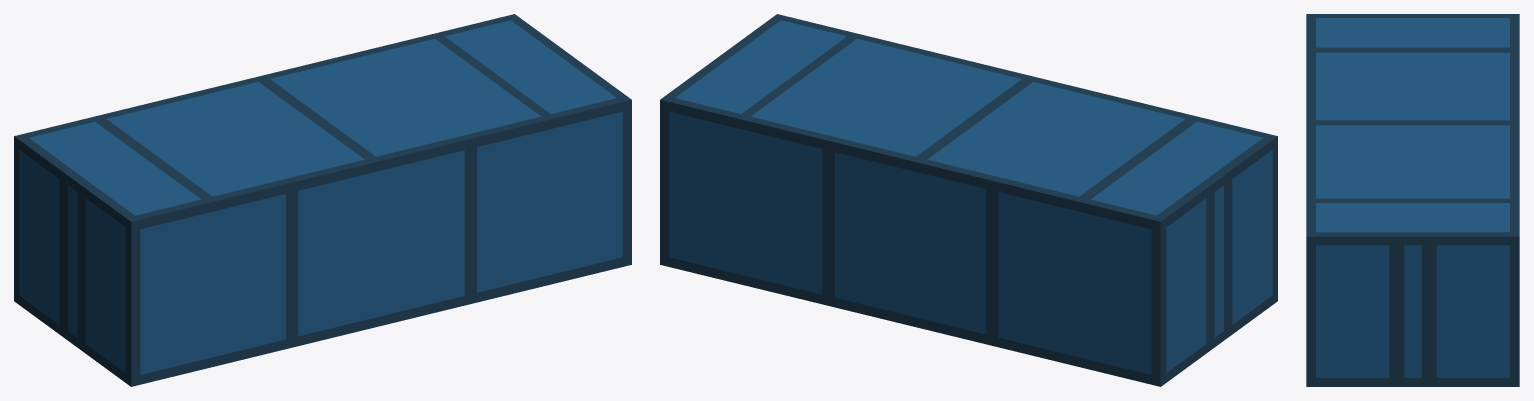
File: cargo container1.FBX
The picture shows the model from 3 angles, left to right: view 1: azimuth 30°, elevation 25°; view 2: azimuth 150°, elevation 25°; view 3: azimuth 270°, elevation 25°; orthographic projection. The views are drawn at different scales.
Parts seen in each view (by area): view 1: cargo container1; view 2: cargo container1; view 3: cargo container1.
Part boxes in pixels (x1,y1,x2,y2): cargo container1: (14,14,631,386); cargo container1: (660,14,1277,386); cargo container1: (1306,14,1519,386).
Bounding box in the file's own units: 5.88 × 1.85 × 2.38.
